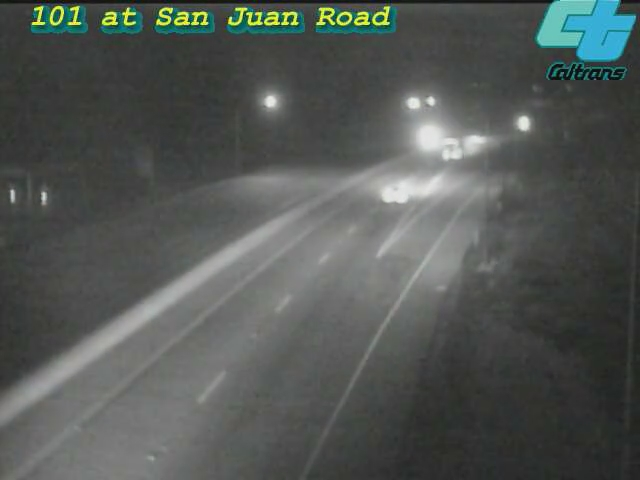vehicle: (355, 153, 435, 233), (405, 111, 455, 161), (503, 98, 553, 148), (455, 113, 505, 163), (429, 124, 479, 174)
